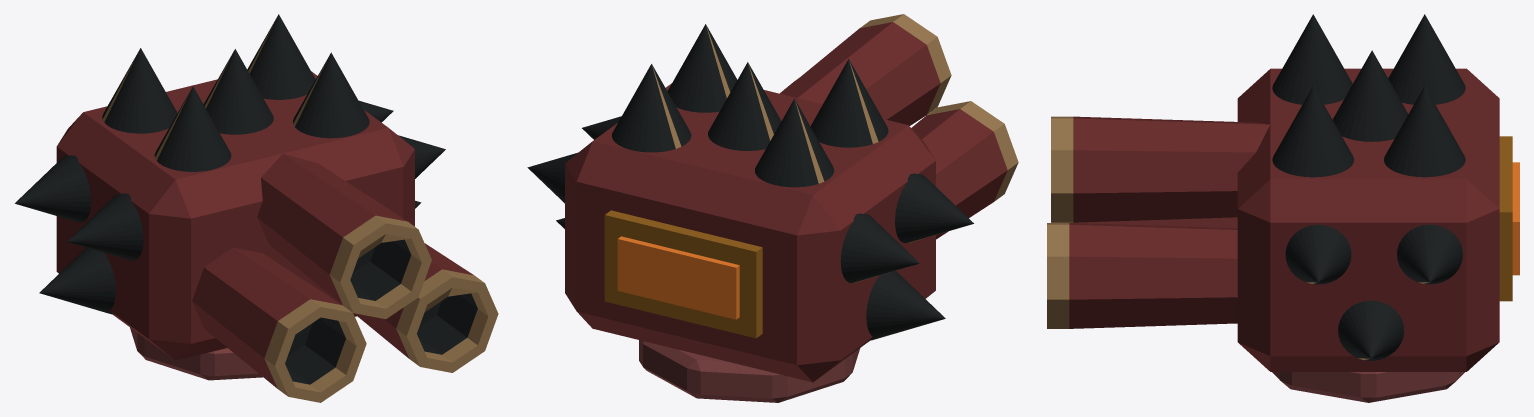
The model's file is FireTowerlvl2.glb.
3 views of the same model, side by side, from view 1: azimuth 30°, elevation 25°; view 2: azimuth 150°, elevation 25°; view 3: azimuth 270°, elevation 25° (orthographic). The views are drawn at different scales.
Parts seen in each view (by area): view 1: FireNozzle, FireHousing, FireBase; view 2: FireHousing, FireNozzle, HeatWindowFrame, HeatWindow, FireBase; view 3: FireNozzle, FireHousing, FireBase, HeatWindowFrame, HeatWindow.
Part boxes in pixels (box(x1,y1,x2,y2)): FireNozzle: box(15, 14, 498, 402); FireHousing: box(56, 71, 414, 360); FireBase: box(130, 327, 262, 380); FireHousing: box(565, 83, 935, 382); FireNozzle: box(527, 14, 1018, 340); HeatWindowFrame: box(604, 210, 762, 338); HeatWindow: box(617, 236, 739, 319); FireBase: box(639, 340, 860, 402); FireNozzle: box(1047, 14, 1465, 360); FireHousing: box(1237, 68, 1499, 371); FireBase: box(1272, 372, 1464, 402); HeatWindowFrame: box(1499, 136, 1512, 301); HeatWindow: box(1512, 162, 1519, 275).
Size of the model in its own units: 2.14 by 1.55 by 2.17.
